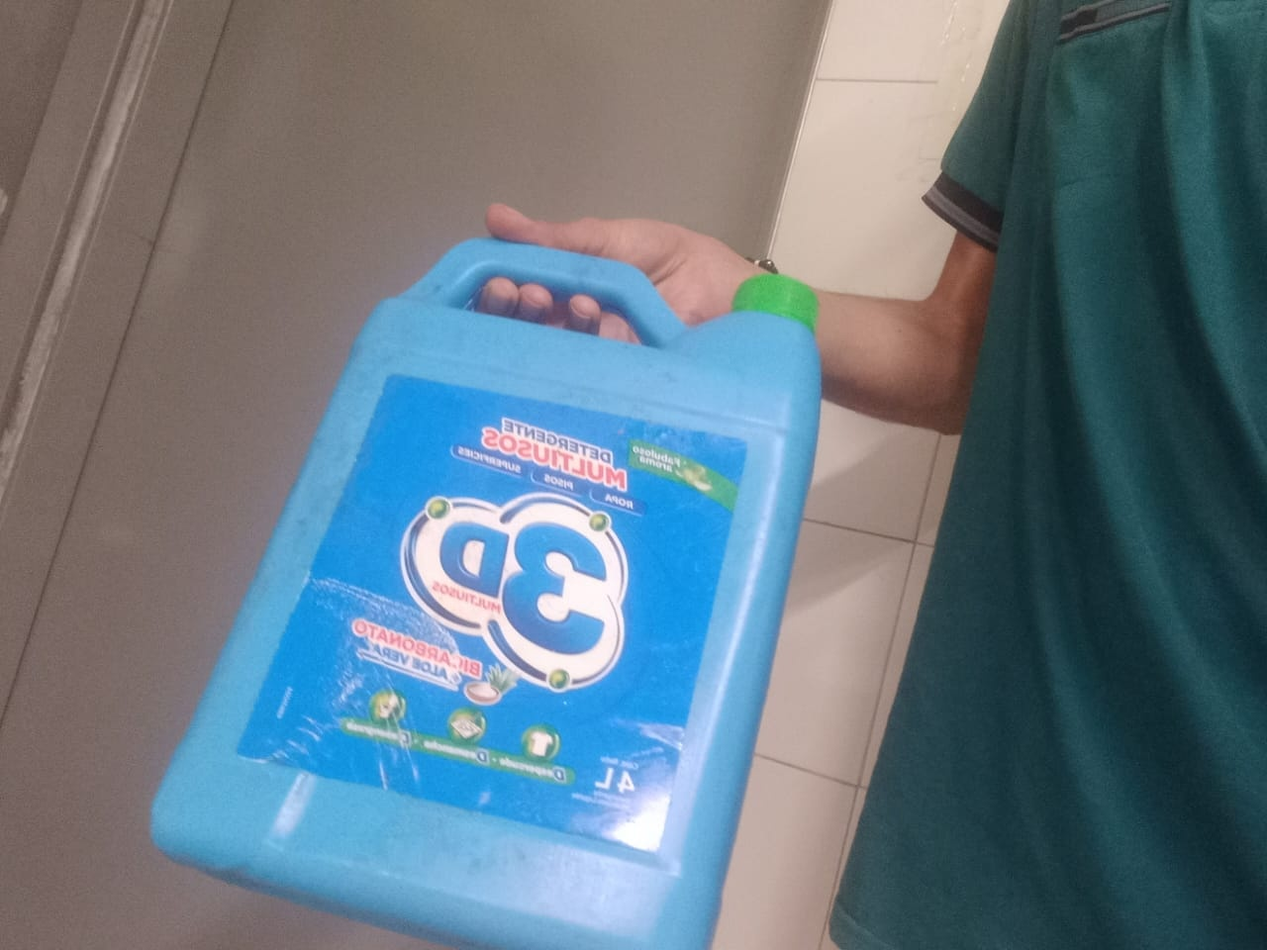Plastico: (148, 236, 823, 950)
